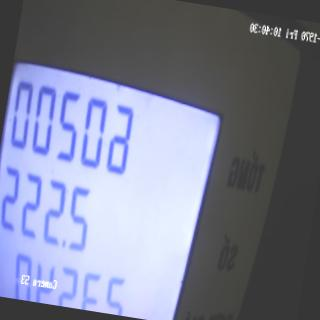screen: (0, 39, 238, 320)
